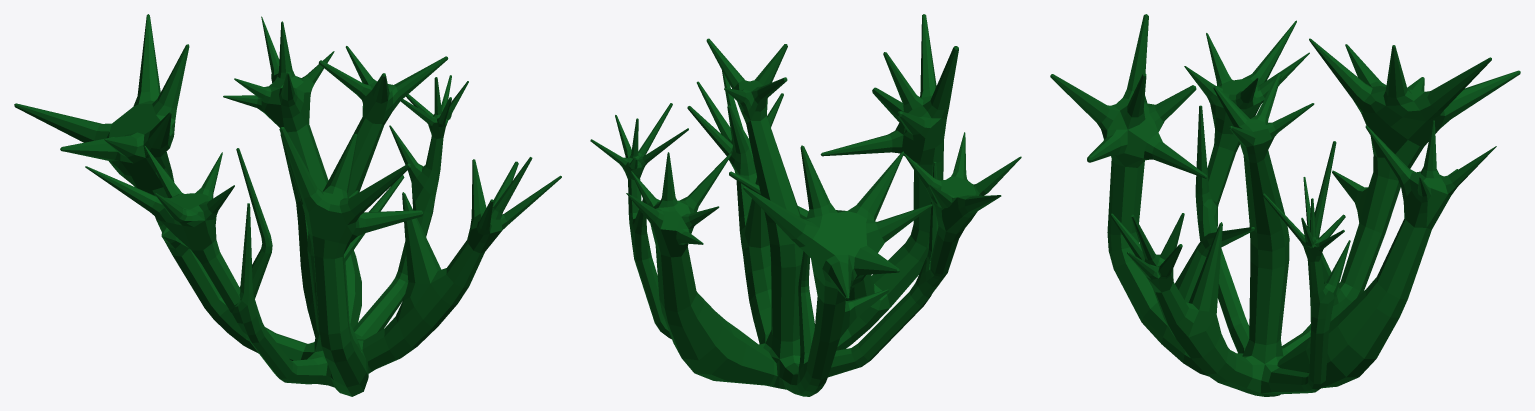
File: tree-summer-leaves-5-001.glb
3 views of the same model, side by side, from view 1: azimuth 30°, elevation 25°; view 2: azimuth 150°, elevation 25°; view 3: azimuth 270°, elevation 25° (orthographic).
Visible parts, largest first — view 1: Tree 5_68; view 2: Tree 5_68; view 3: Tree 5_68.
Part boxes in pixels (x1,y1,x2,y2): Tree 5_68: [14, 14, 561, 396]; Tree 5_68: [590, 14, 1021, 396]; Tree 5_68: [1050, 14, 1520, 396].
Bounding box in the file's own units: 1.14 × 0.8953 × 1.19.
